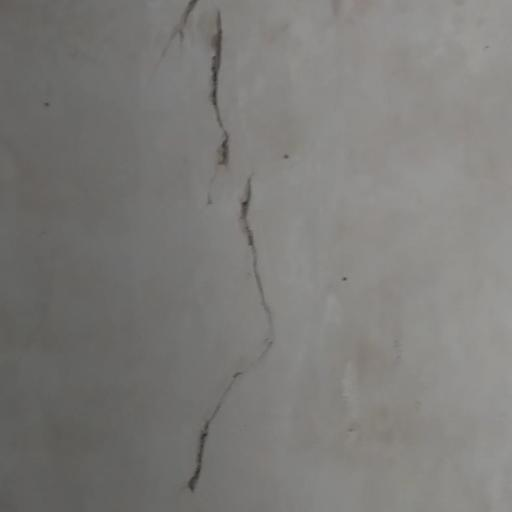minor_crack: (152, 0, 289, 506)
